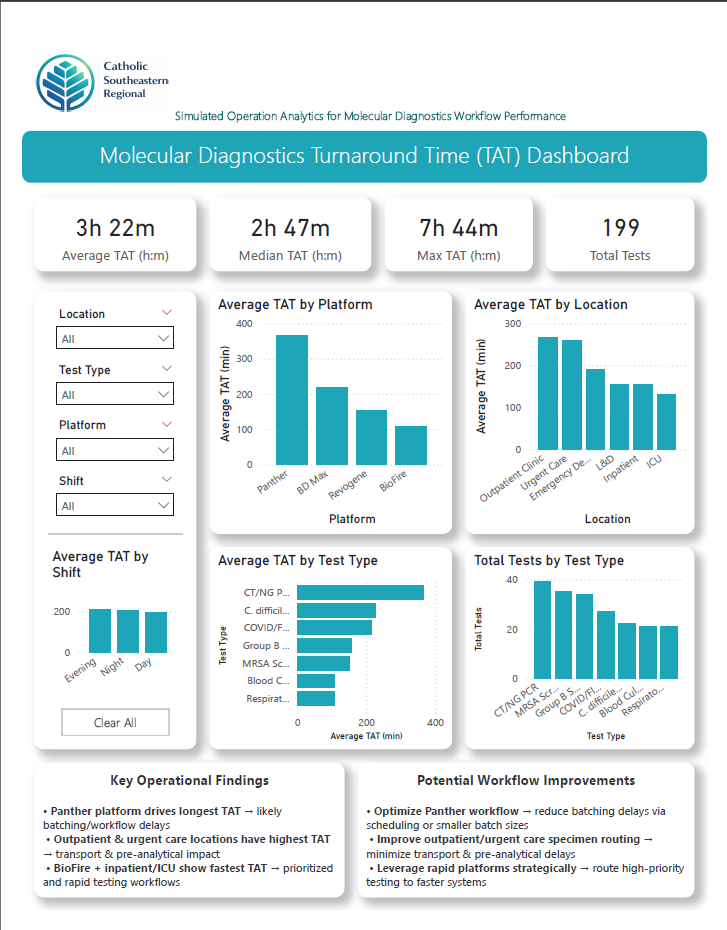

This screenshot's page, from the dashboard's own definition file:
{"tool":"powerbi","page":{"name":"Dashboard","canvas":[816,1056],"ordinal":0},"visuals":[{"type":"card","fields":{"Values":["Raw_Molecular_TAT_Data.Average TAT (h:m)"]},"box":[16,208,192,88],"z":0},{"type":"shape","box":[16,320,192,544],"z":0,"group":"g1"},{"type":"card","fields":{"Values":["Raw_Molecular_TAT_Data.Median TAT (h:m)"]},"box":[224,208,192,88],"z":1000},{"type":"card","fields":{"Values":["Raw_Molecular_TAT_Data.Max TAT (h:m)"]},"box":[432,208,176,88],"z":2000},{"type":"card","fields":{"Values":["Raw_Molecular_TAT_Data.Test Volume"]},"box":[624,208,176,88],"z":3000},{"type":"textbox","box":[0,128,816,64],"z":4000},{"type":"textbox","box":[112,96,608,32],"z":5000},{"type":"clusteredColumnChart","fields":{"Category":["Raw_Molecular_TAT_Data.Platform"],"Y":["Raw_Molecular_TAT_Data.Average TAT"]},"box":[224,320,288,288],"z":6000},{"type":"slicer","fields":{"Values":["Raw_Molecular_TAT_Data.Platform"]},"box":[32,466,160,66.3],"z":6000,"group":"g1"},{"type":"group","id":"g1","title":"Group 1","box":[16,320,192,544],"z":7000},{"type":"slicer","fields":{"Values":["Raw_Molecular_TAT_Data.Location"]},"box":[32,333.3,160,66.3],"z":7000,"group":"g1"},{"type":"columnChart","fields":{"Category":["Raw_Molecular_TAT_Data.Location"],"Y":["Raw_Molecular_TAT_Data.Average TAT"]},"box":[528,320,272,288],"z":8000},{"type":"slicer","fields":{"Values":["Raw_Molecular_TAT_Data.Shift"]},"box":[32,532.3,160,66.3],"z":8000,"group":"g1"},{"type":"barChart","fields":{"Category":["Raw_Molecular_TAT_Data.Test Type"],"Y":["Raw_Molecular_TAT_Data.Average TAT"]},"box":[224,624,288,240],"z":9000},{"type":"slicer","fields":{"Values":["Raw_Molecular_TAT_Data.Test_Name"]},"box":[32,399.6,160,66.3],"z":10000,"group":"g1"},{"type":"columnChart","fields":{"Category":["Raw_Molecular_TAT_Data.Test Type"],"Y":["Raw_Molecular_TAT_Data.Test Volume"]},"box":[528,624,272,240],"z":10000},{"type":"columnChart","fields":{"Category":["Raw_Molecular_TAT_Data.Shift"],"Y":["Raw_Molecular_TAT_Data.Average TAT"]},"box":[32,624,160,176],"z":11000},{"type":"shape","box":[32,560,160,96],"z":12000},{"type":"actionButton","title":"Clear All","box":[48,816,128,32],"z":13000},{"type":"image","box":[16,16,160,112],"z":14000},{"type":"textbox","box":[400,880,400,160],"z":15000},{"type":"textbox","box":[16,880,368,160],"z":16001}]}

Visuals, with their boxes in screenshot pixels (x1, y1, x2, y2), scaled from the page's 816x1056 canvas onto the 727x930 screenshot:
card - Raw_Molecular_TAT_Data.Average TAT (h:m): region(14, 183, 185, 261)
shape: region(14, 282, 185, 761)
card - Raw_Molecular_TAT_Data.Median TAT (h:m): region(200, 183, 371, 261)
card - Raw_Molecular_TAT_Data.Max TAT (h:m): region(385, 183, 542, 261)
card - Raw_Molecular_TAT_Data.Test Volume: region(556, 183, 713, 261)
textbox: region(0, 113, 726, 169)
textbox: region(100, 85, 641, 113)
clusteredColumnChart - Raw_Molecular_TAT_Data.Platform x Raw_Molecular_TAT_Data.Average TAT: region(200, 282, 456, 535)
slicer - Raw_Molecular_TAT_Data.Platform: region(29, 410, 171, 469)
"Group 1" group: region(14, 282, 185, 761)
slicer - Raw_Molecular_TAT_Data.Location: region(29, 294, 171, 352)
columnChart - Raw_Molecular_TAT_Data.Location x Raw_Molecular_TAT_Data.Average TAT: region(470, 282, 713, 535)
slicer - Raw_Molecular_TAT_Data.Shift: region(29, 469, 171, 527)
barChart - Raw_Molecular_TAT_Data.Test Type x Raw_Molecular_TAT_Data.Average TAT: region(200, 550, 456, 761)
slicer - Raw_Molecular_TAT_Data.Test_Name: region(29, 352, 171, 410)
columnChart - Raw_Molecular_TAT_Data.Test Type x Raw_Molecular_TAT_Data.Test Volume: region(470, 550, 713, 761)
columnChart - Raw_Molecular_TAT_Data.Shift x Raw_Molecular_TAT_Data.Average TAT: region(29, 550, 171, 705)
shape: region(29, 493, 171, 578)
"Clear All" actionButton: region(43, 719, 157, 747)
image: region(14, 14, 157, 113)
textbox: region(356, 775, 713, 916)
textbox: region(14, 775, 342, 916)
